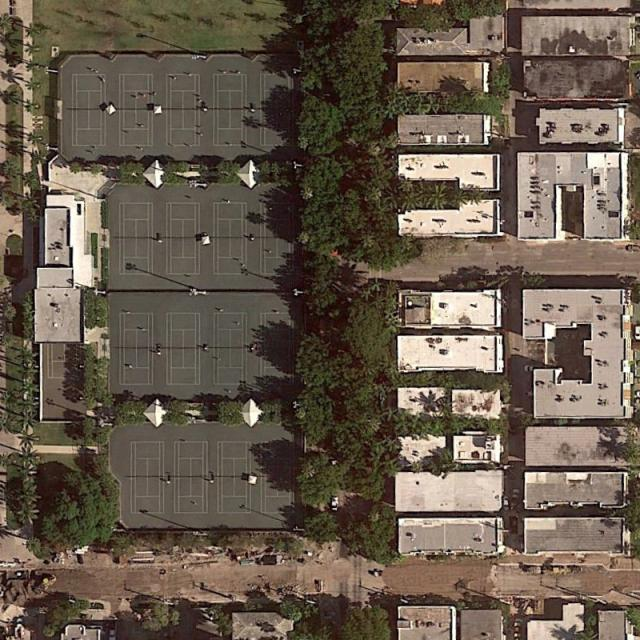vehicle: (330, 495, 341, 511), (625, 245, 640, 253)
